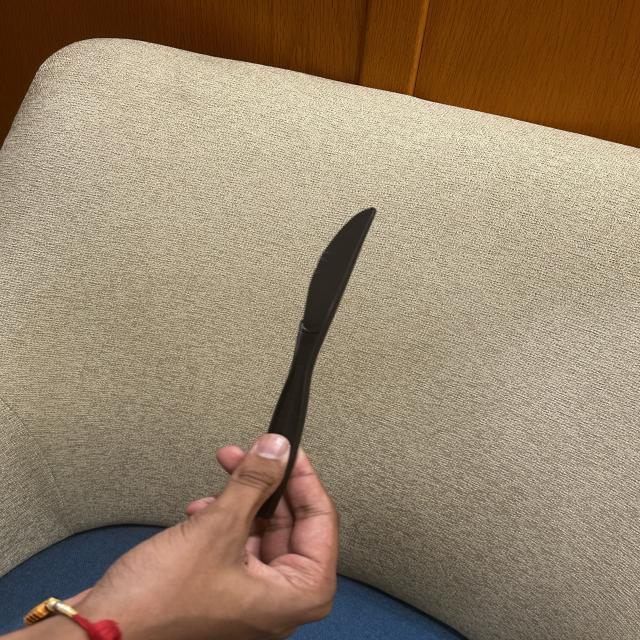knife: (153, 189, 457, 529)
